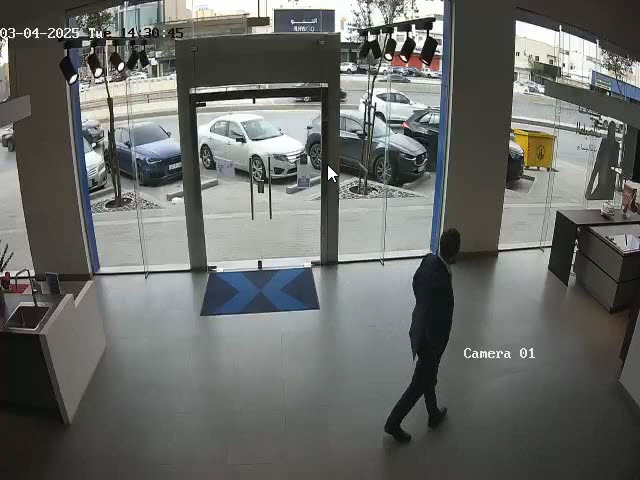employee: (383, 228, 461, 442)
